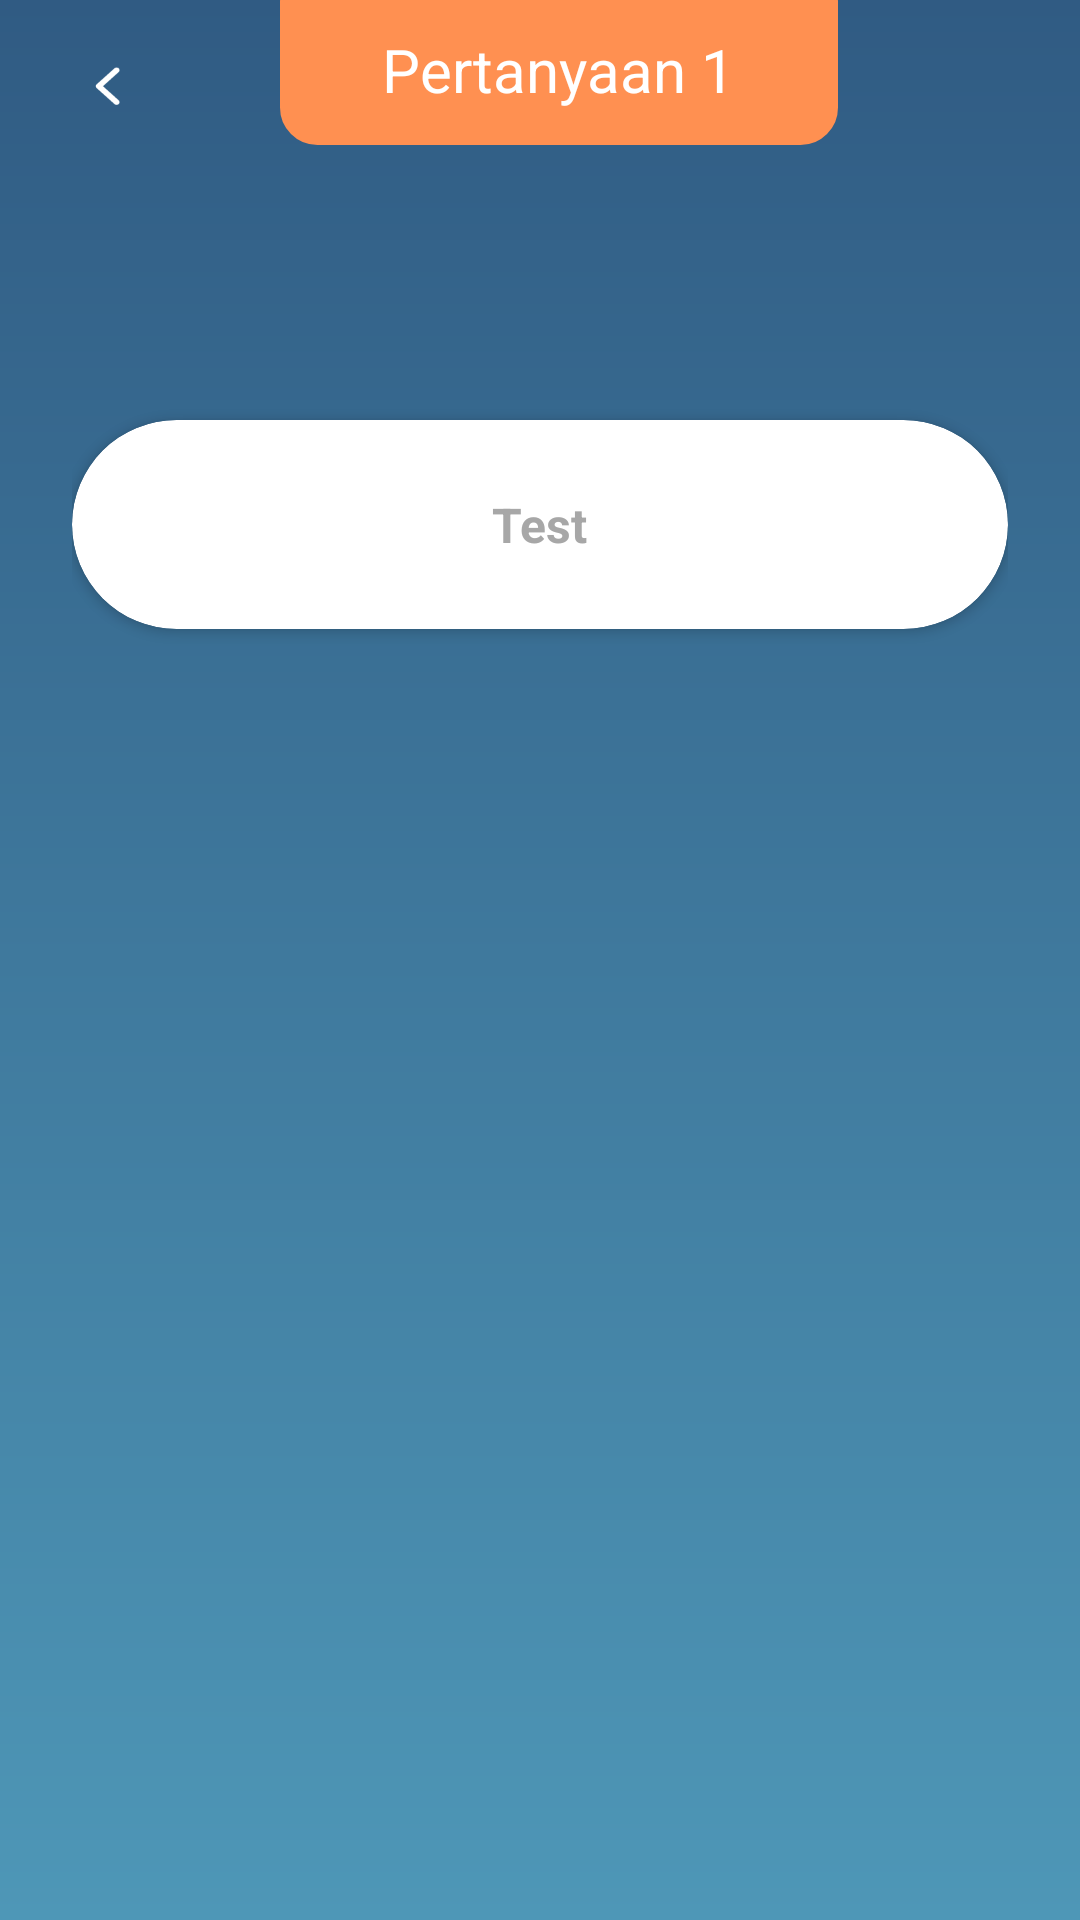

Named icons in this screenshot (1080 x 1920) and their centers, (x,y):
arrow left: (107,86)
